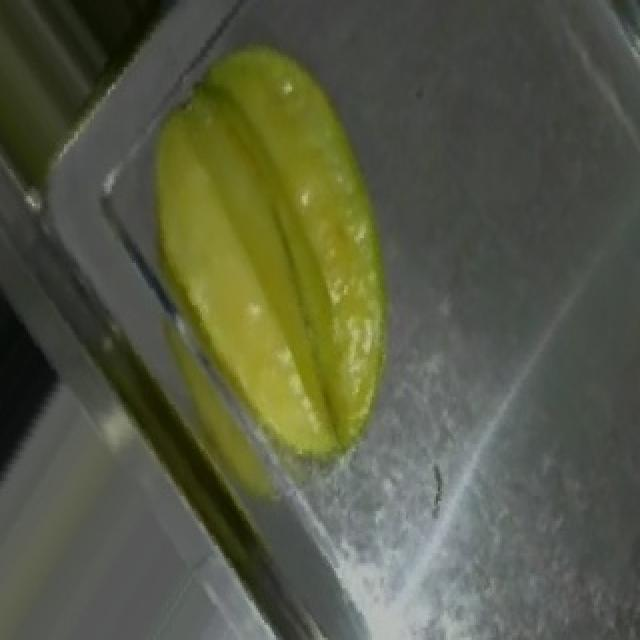fruit: (78, 10, 468, 441)
